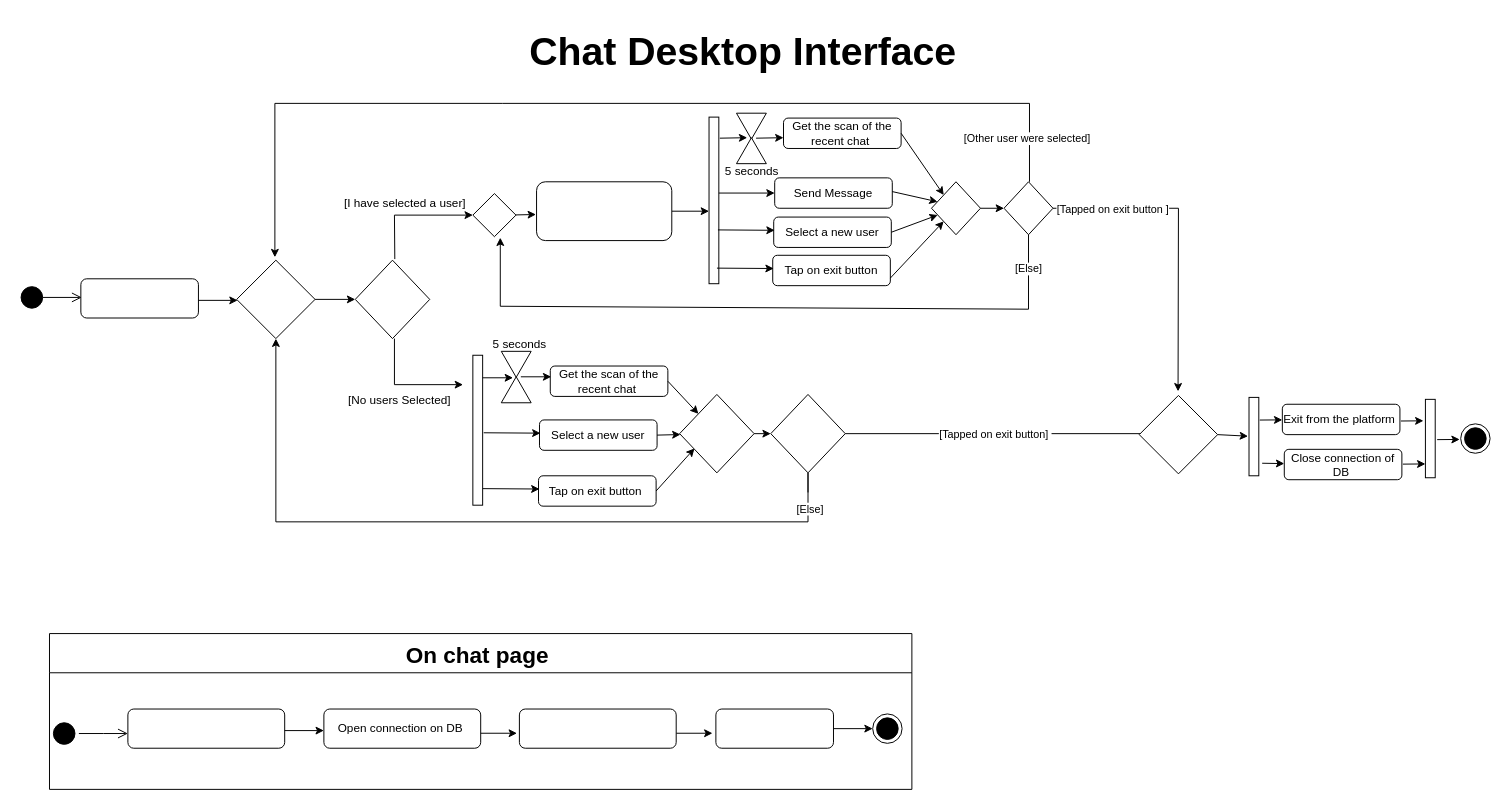
Some shapes in this 1507 by 807 pixel diagram are drawn without their labels. The centre of each missing label's shape, as x and y in pixels:
Correct Login: the point at 597,728
Input userid and password: the point at 206,728
Load or update the selected user's chat: the point at 604,211
On chat page*: the point at 139,298
Tap on a user's chat or tap on chat button: the point at 774,728
